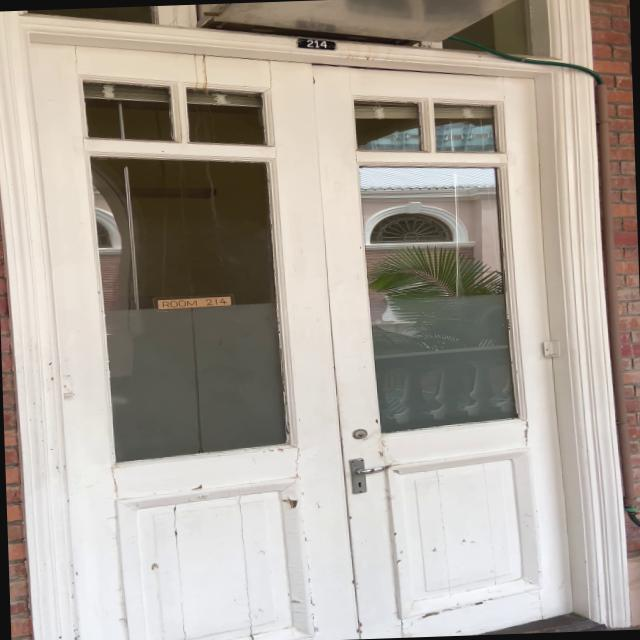room214: (292, 33, 338, 55)
room214Window: (148, 290, 240, 312)
